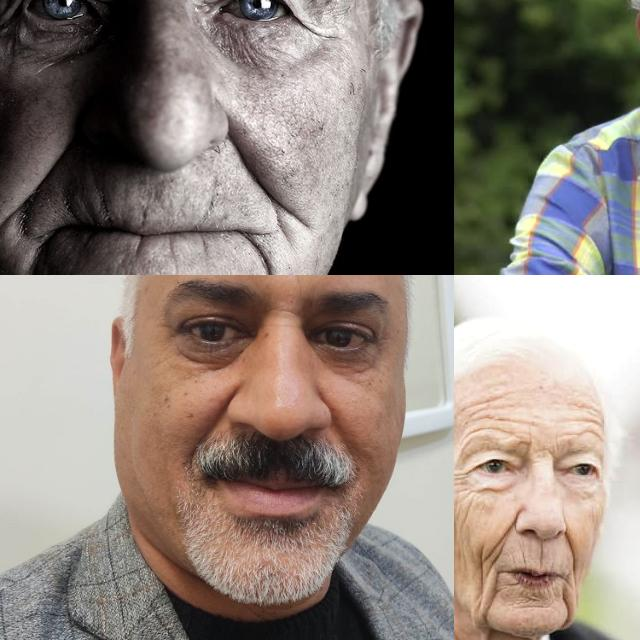crows_feet: (298, 13, 322, 44), (0, 6, 15, 39), (454, 467, 470, 490)
forehead: (468, 401, 516, 433), (568, 409, 606, 437), (286, 275, 303, 286)
frown_line: (534, 442, 558, 462), (276, 304, 302, 320)
gummy_smile: (22, 124, 80, 198), (228, 126, 284, 202), (197, 386, 230, 452), (489, 504, 518, 562), (559, 529, 579, 569)
masseter: (472, 546, 488, 596)
sad_smile: (243, 233, 282, 275), (15, 235, 51, 275), (482, 574, 502, 616), (560, 588, 572, 626)
smoker_lines: (92, 184, 121, 218), (534, 537, 546, 567)
